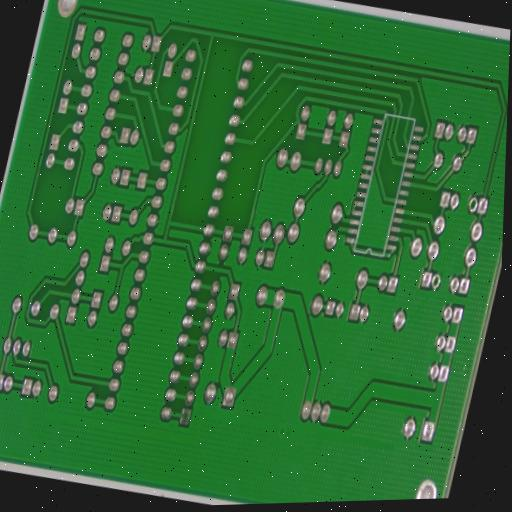missing_hole: (466, 195, 480, 215), (430, 272, 442, 293), (179, 408, 192, 427)
